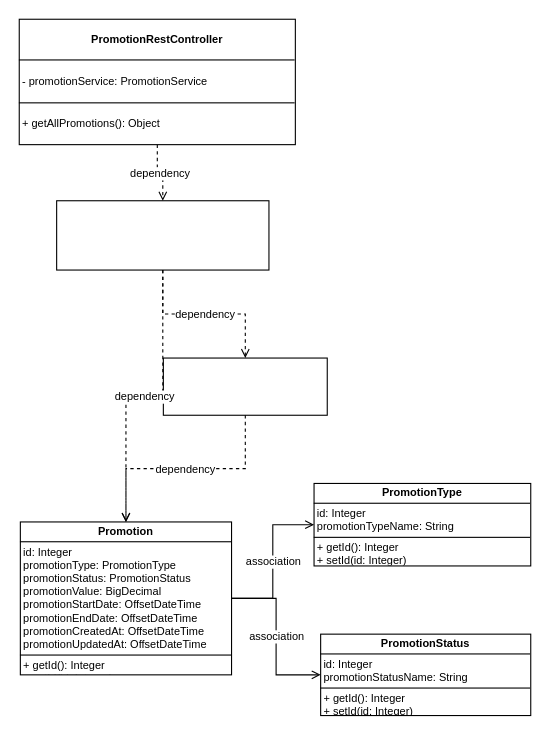
This 550x735 diagram has some shape labels left out. Each missing label, with the box of its shape:
PromotionRepository + findAll(): Promotion: (162, 357, 327, 415)
PromotionService promotionRepository: PromotionRepository + findAll(): Promotion: (56, 200, 269, 270)
